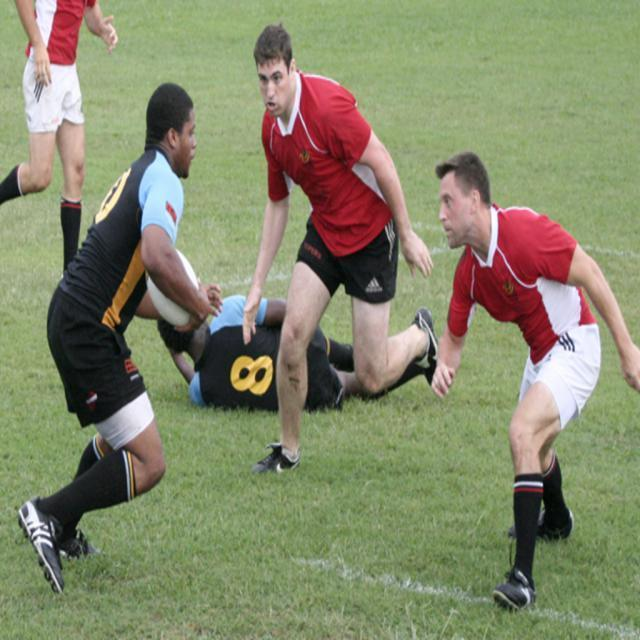ball: (145, 246, 201, 325)
